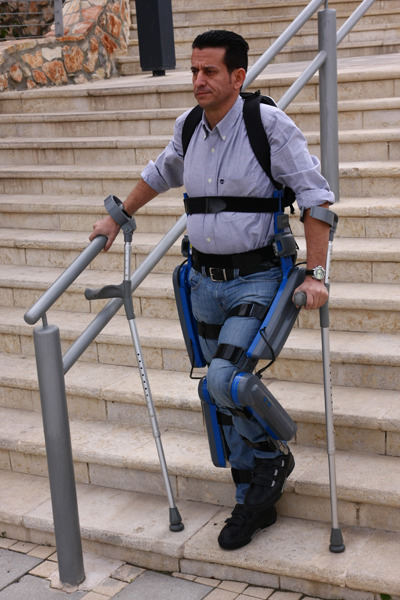crutches: (86, 29, 343, 553)
